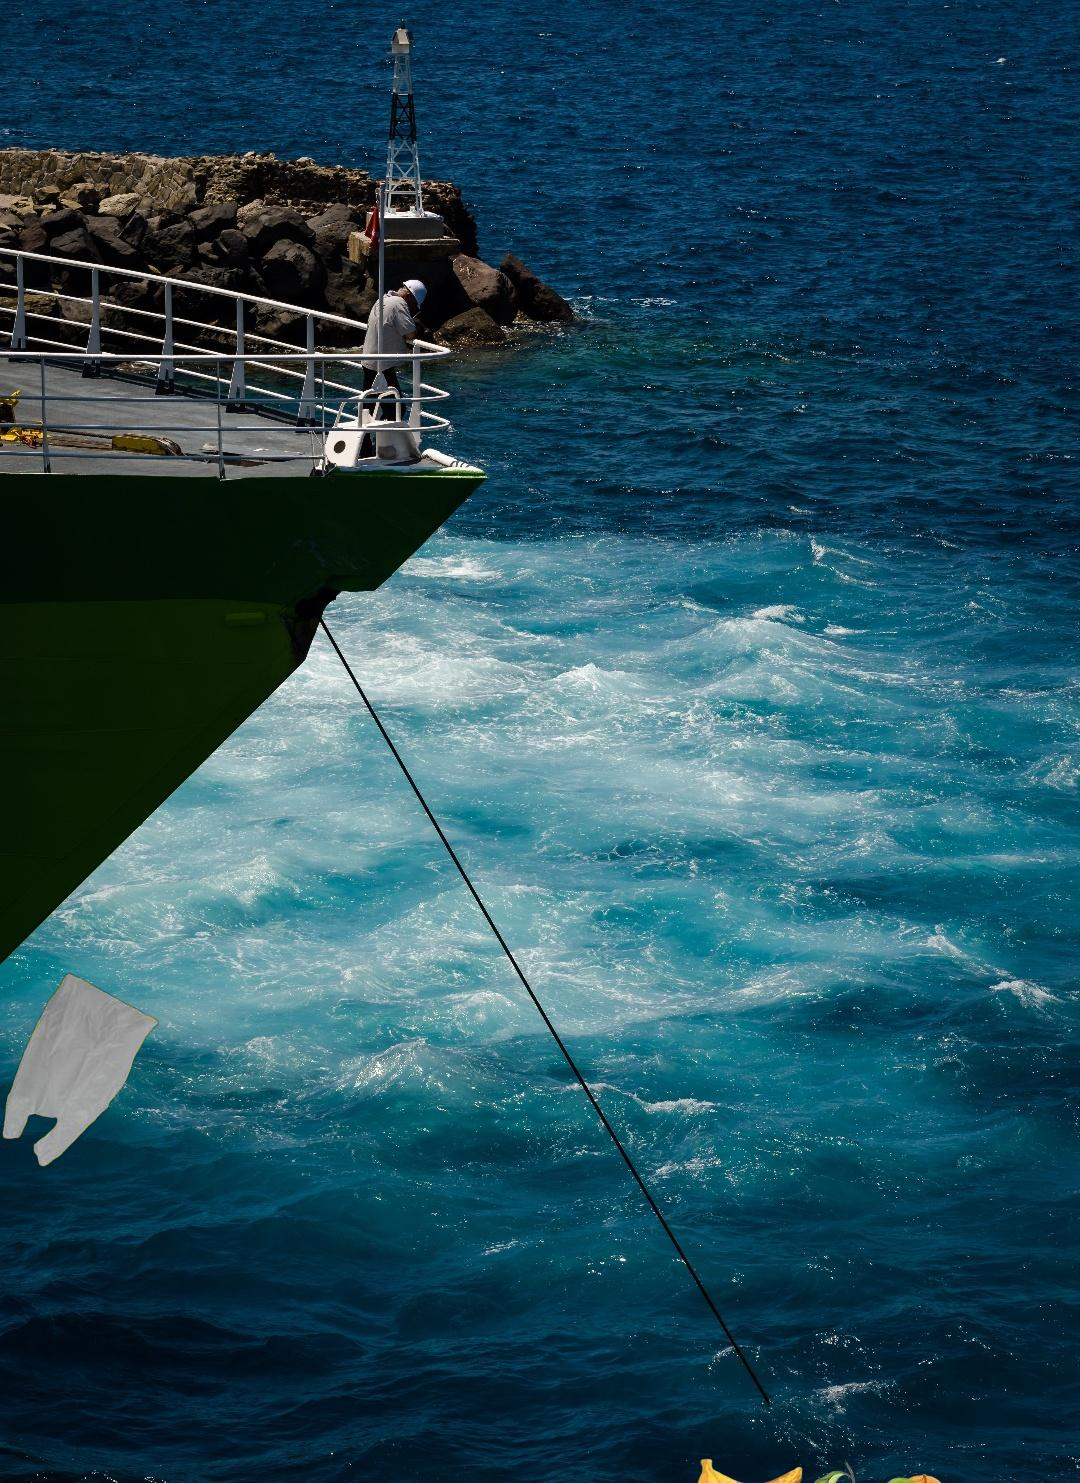biological: (695, 1457, 950, 1483)
plastic-bag: (0, 971, 162, 1170)
